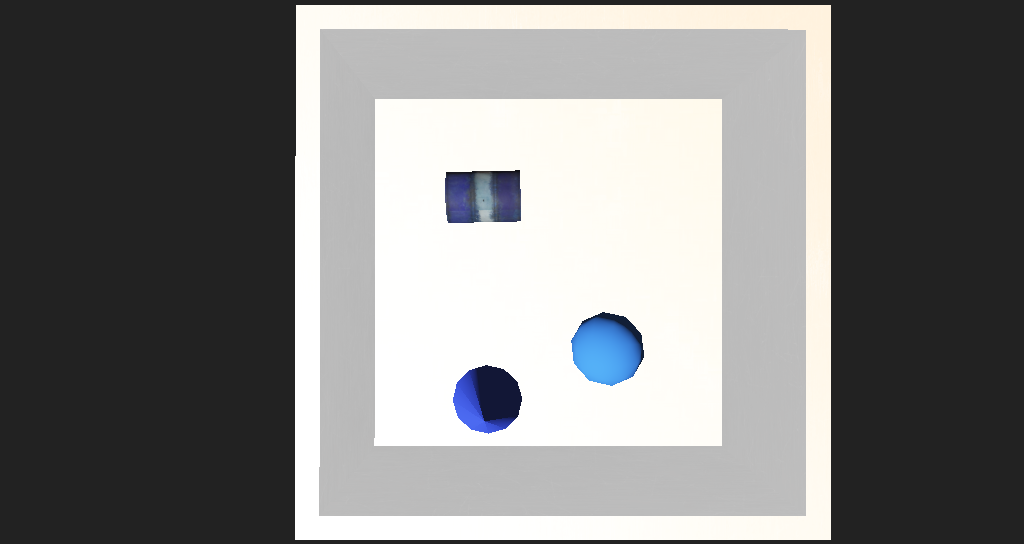cone: (411, 208, 478, 241)
cylinder: (421, 324, 482, 382)
sphere: (529, 293, 589, 336)
